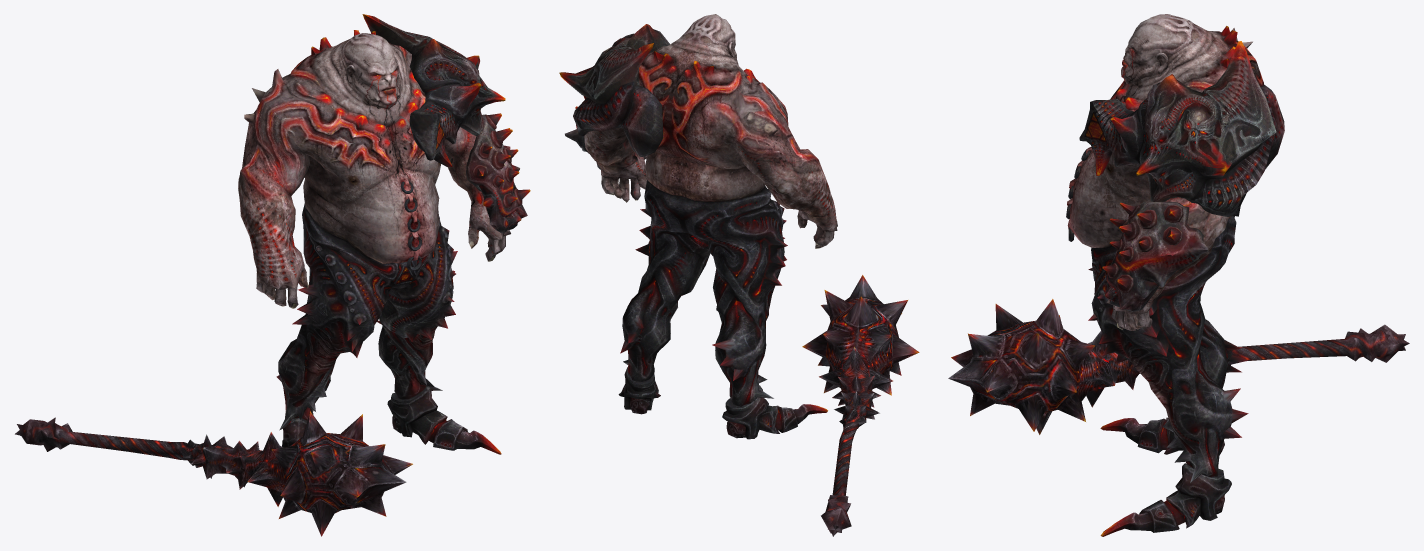
File: Imrod.fbx
3 views of the same model, side by side, from view 1: azimuth 30°, elevation 25°; view 2: azimuth 150°, elevation 25°; view 3: azimuth 270°, elevation 25° (orthographic). The views are drawn at different scales.
Visible parts, largest first — view 1: Imrod, Weapon; view 2: Imrod, Weapon; view 3: Imrod, Weapon.
Boxes of the visible parts, x1,y1,x2,y2 form: Imrod: (238, 14, 530, 454); Weapon: (15, 411, 412, 536); Imrod: (559, 14, 837, 439); Weapon: (802, 275, 919, 536); Imrod: (1066, 14, 1284, 536); Weapon: (948, 299, 1409, 434).
Bounding box in the file's own units: 2912 × 3065 × 2697.
